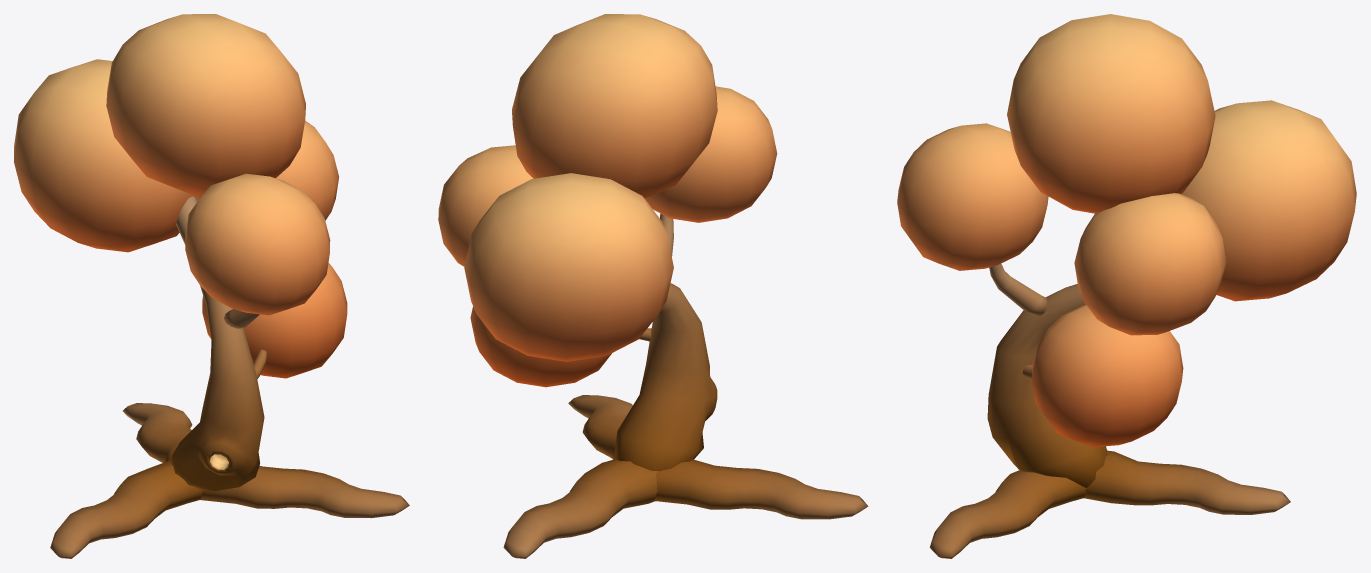
File: Tree11.fbx
The picture shows the model from 3 angles, left to right: view 1: azimuth 30°, elevation 25°; view 2: azimuth 150°, elevation 25°; view 3: azimuth 270°, elevation 25°; orthographic projection. The views are drawn at different scales.
Visible parts, largest first — view 1: Tree12Bl_LOD0, Tree12B_LOD0; view 2: Tree12Bl_LOD0, Tree12B_LOD0; view 3: Tree12Bl_LOD0, Tree12B_LOD0.
Boxes of the visible parts, x1,y1,x2,y2 form: Tree12Bl_LOD0: (14, 14, 347, 378); Tree12B_LOD0: (50, 196, 409, 558); Tree12Bl_LOD0: (438, 14, 777, 387); Tree12B_LOD0: (503, 213, 868, 558); Tree12Bl_LOD0: (897, 14, 1356, 447); Tree12B_LOD0: (929, 263, 1290, 558).
Size of what is drawn, in the model's own units: 11.84 by 13.5 by 15.36.
